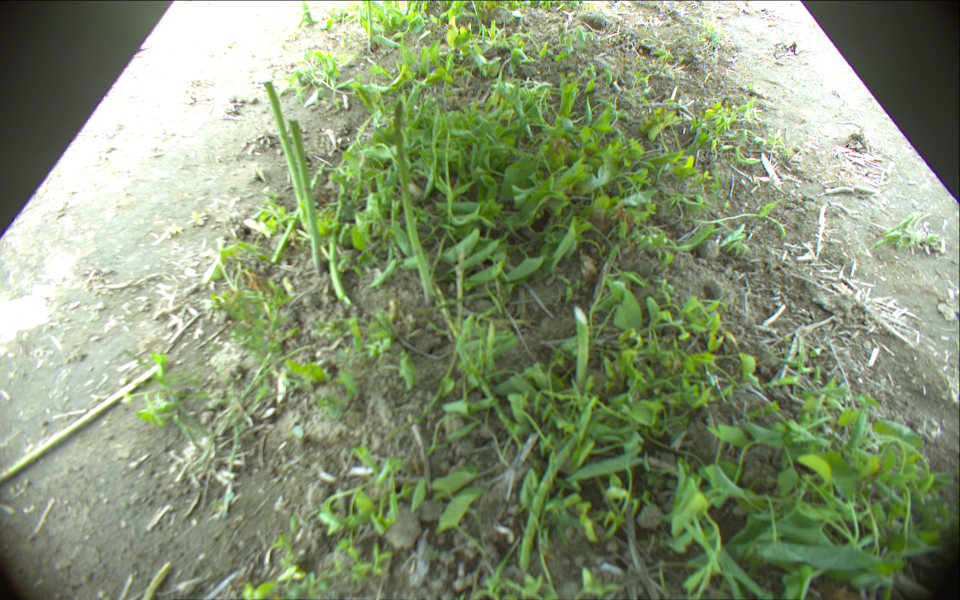aspa: (1, 361, 164, 489), (391, 100, 436, 303), (515, 434, 581, 571), (270, 150, 333, 265), (263, 76, 308, 224), (288, 118, 325, 276), (328, 174, 352, 306), (571, 306, 589, 389), (365, 1, 374, 51)
